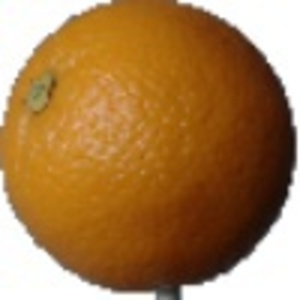laranja: (1, 2, 296, 297)
